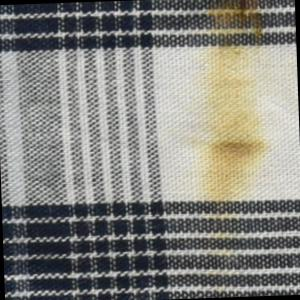Oil Stain: (177, 1, 286, 299)
